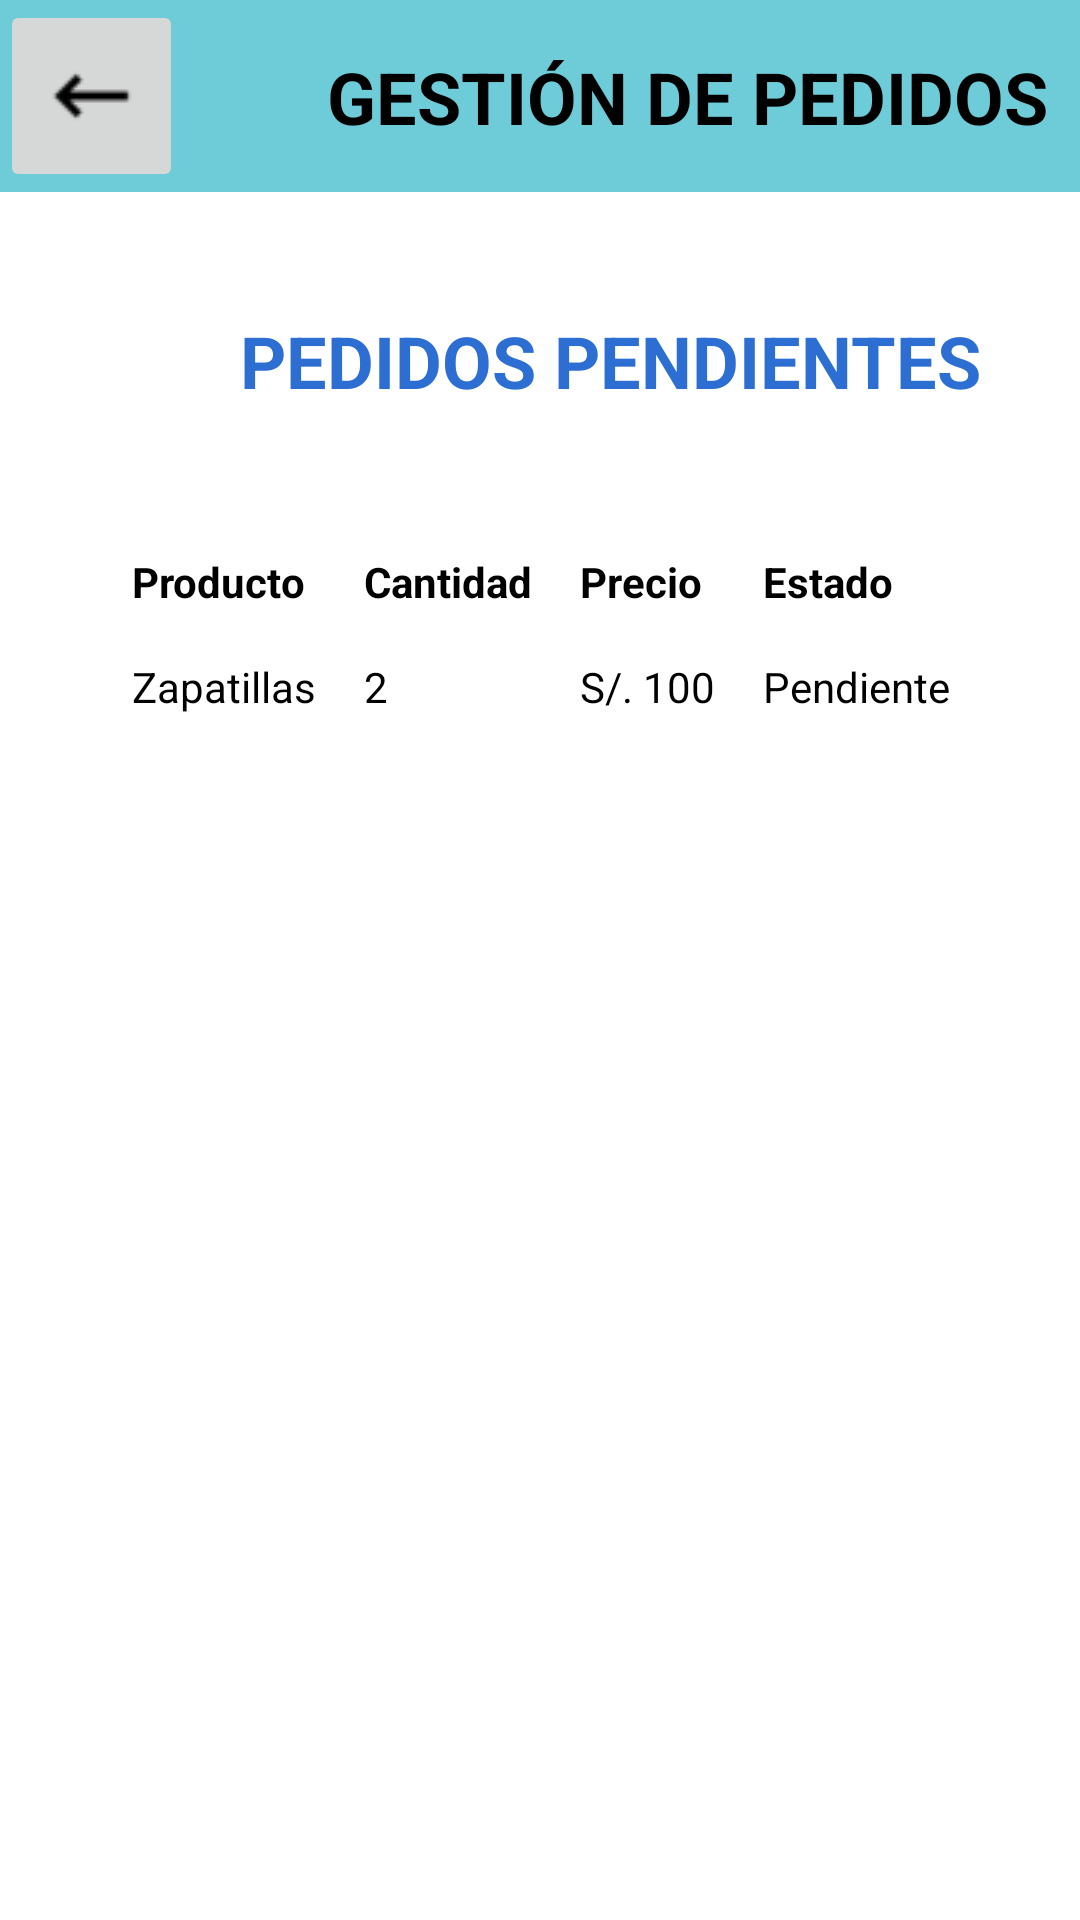

Icon click points for this 1080 × 1920 phone screenshot, format point (x, y):
flecha regreso: point (91, 96)
